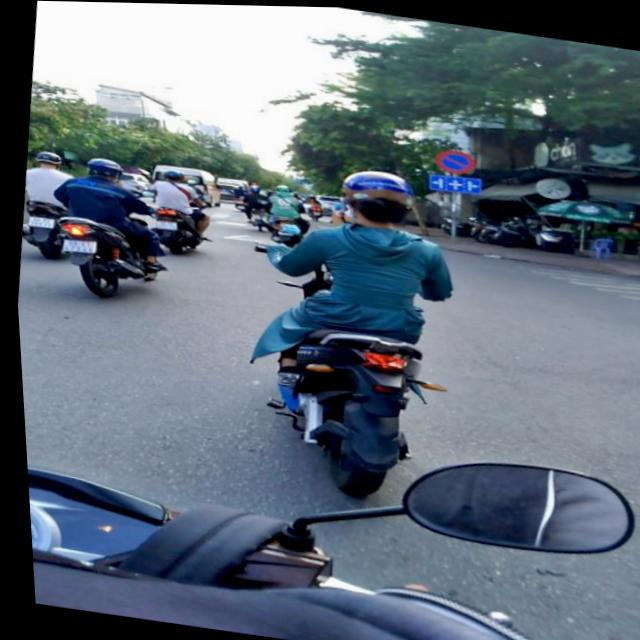Cam do xe: (432, 146, 474, 174)
